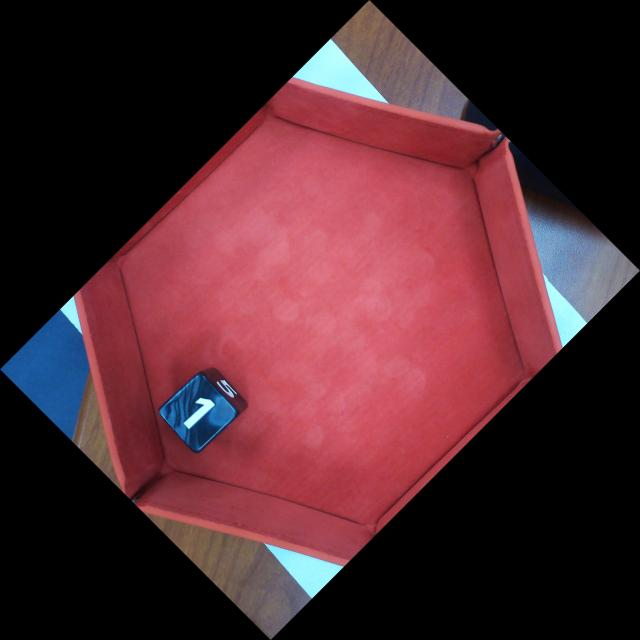dice: (162, 367, 239, 449)
